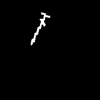double_crochet: (31, 13, 49, 44)
